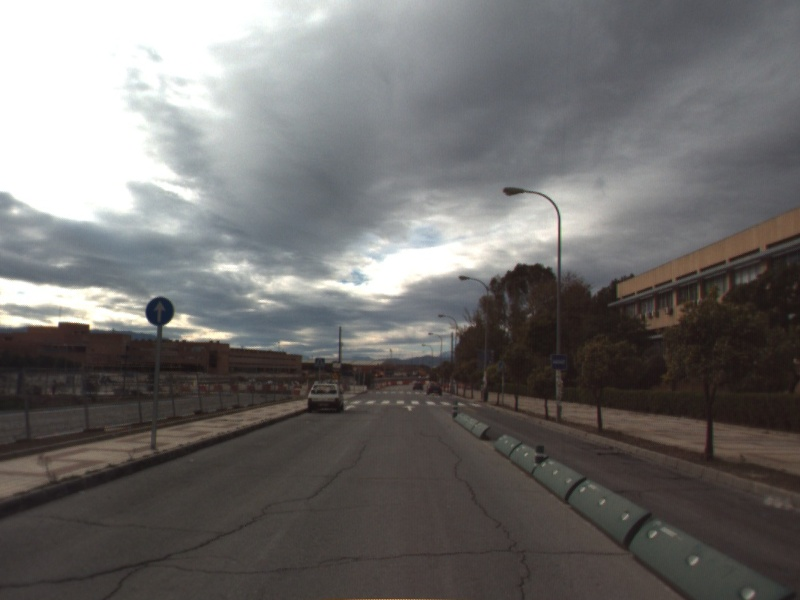STRAIGHT: (400, 403, 418, 413), (342, 403, 358, 412)
